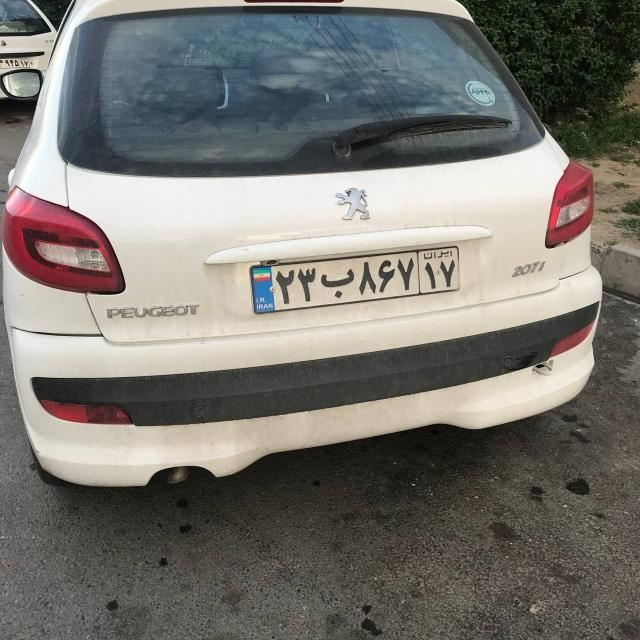Plates: (248, 242, 462, 314)
